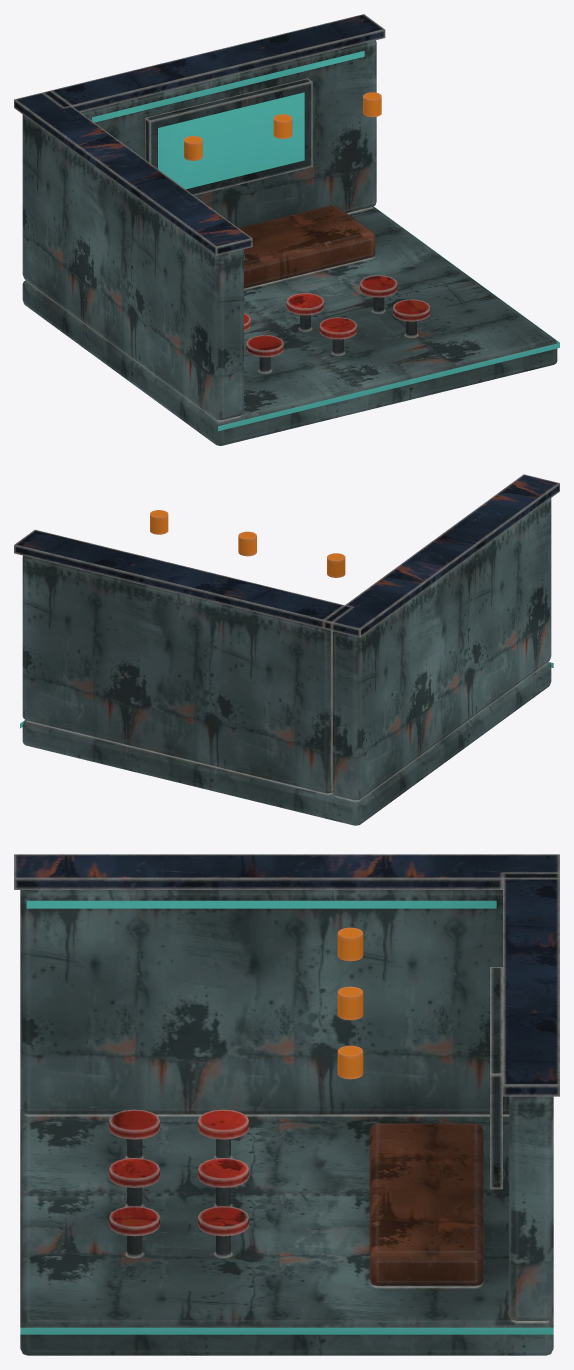
The model's file is experience_arena.glb.
3 views of the same model, one above another, from view 1: azimuth 30°, elevation 25°; view 2: azimuth 150°, elevation 25°; view 3: azimuth 270°, elevation 25° (orthographic). The views are drawn at different scales.
Visible parts, largest first — view 1: te_experience_arena; view 2: te_experience_arena; view 3: te_experience_arena.
Boxes of the visible parts, x1,y1,x2,y2 form: te_experience_arena: [14, 14, 559, 445]; te_experience_arena: [14, 474, 559, 825]; te_experience_arena: [14, 854, 559, 1355].
Size of the model in its own units: 0.86 by 0.48 by 0.86.
Materials: 1 (1 with a texture image).
